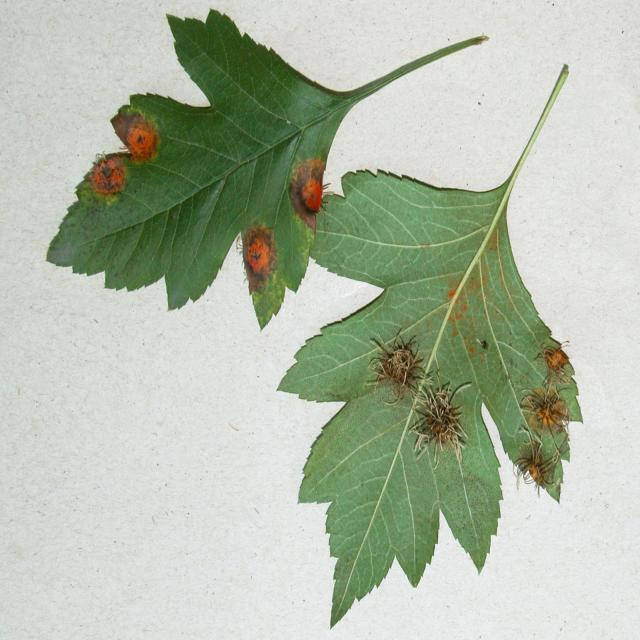Gymnosporangium_Rusts: (45, 8, 583, 628)
